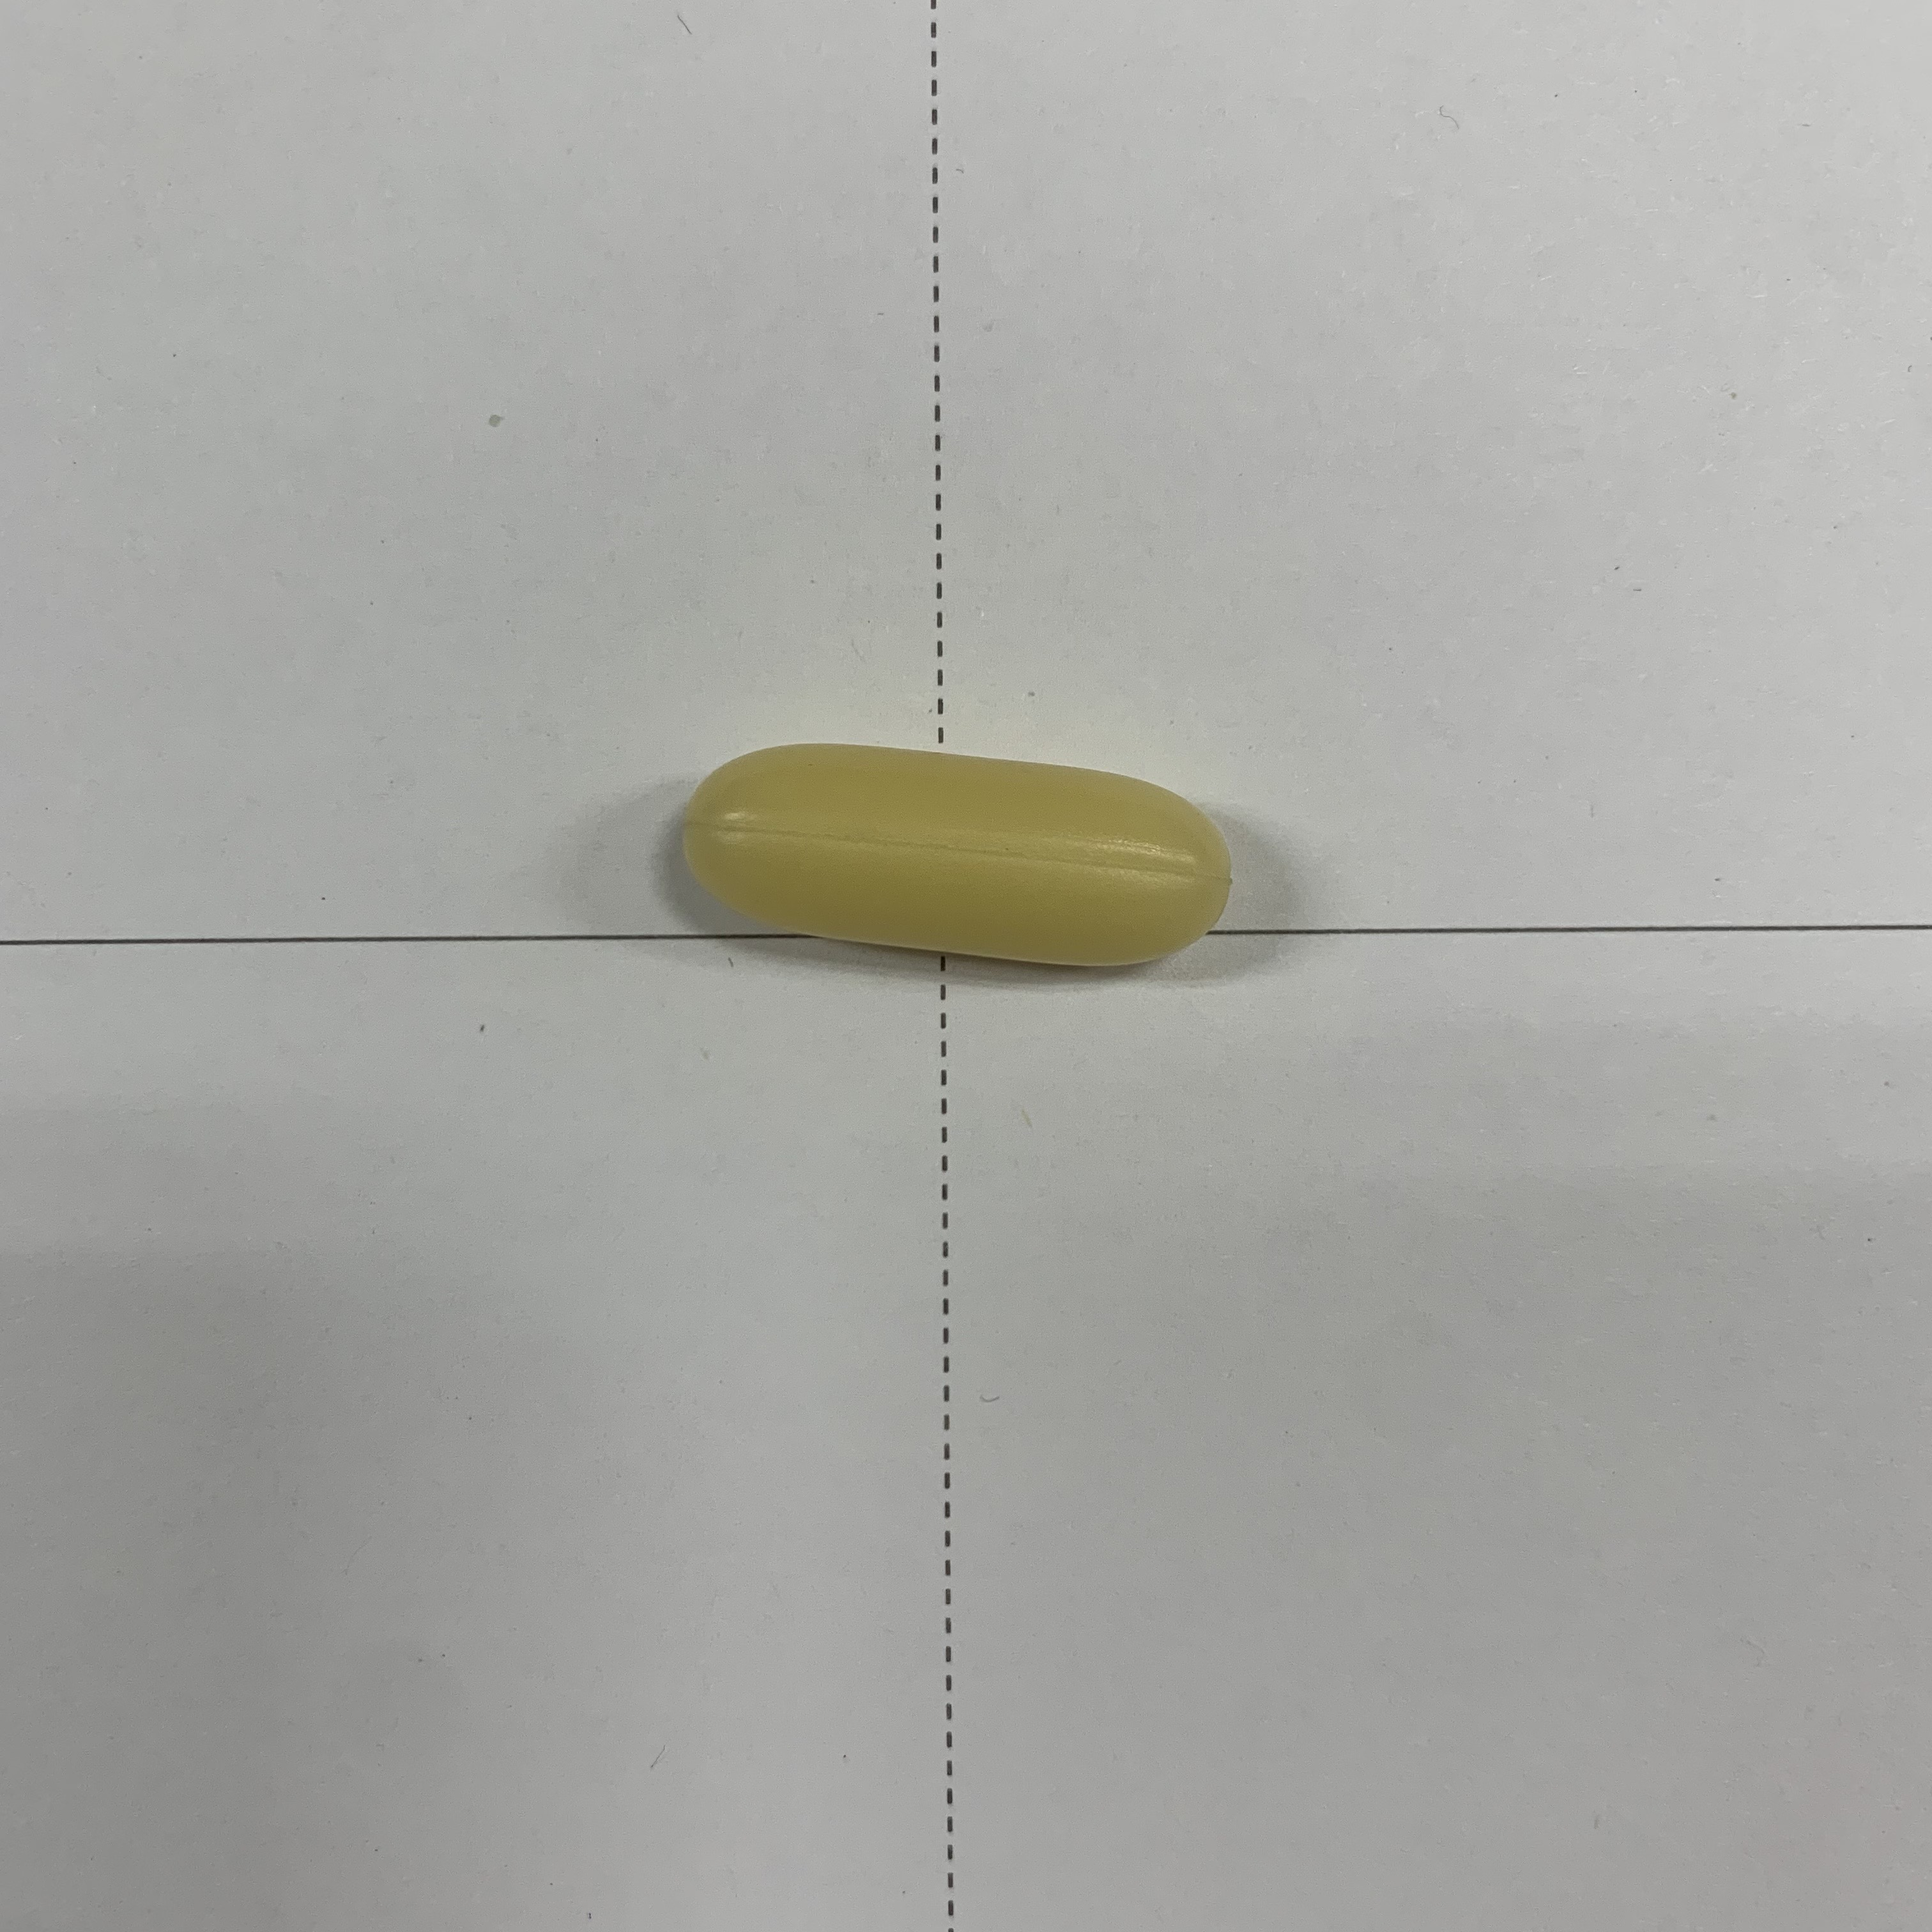rec_drug: (637, 702, 1267, 1016)
